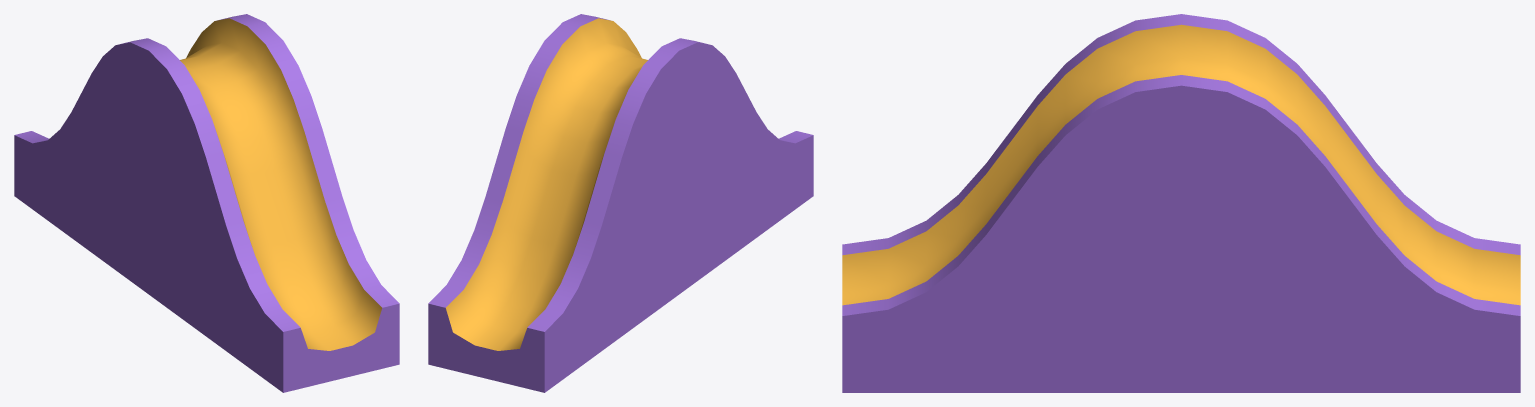
Rendered from bump-solid-d.glb.
3 renders of one model, left to right at view 1: azimuth 30°, elevation 25°; view 2: azimuth 150°, elevation 25°; view 3: azimuth 270°, elevation 25°, orthographic. The views are drawn at different scales.
Parts seen in each view (by area): view 1: bump-solid-d; view 2: bump-solid-d; view 3: bump-solid-d.
Boxes of the visible parts, x1,y1,x2,y2 form: bump-solid-d: (14, 14, 399, 392); bump-solid-d: (428, 14, 813, 392); bump-solid-d: (842, 14, 1520, 392).
Bounding box in the file's own units: 1 × 2 × 4.
1 material, 1 textured.
